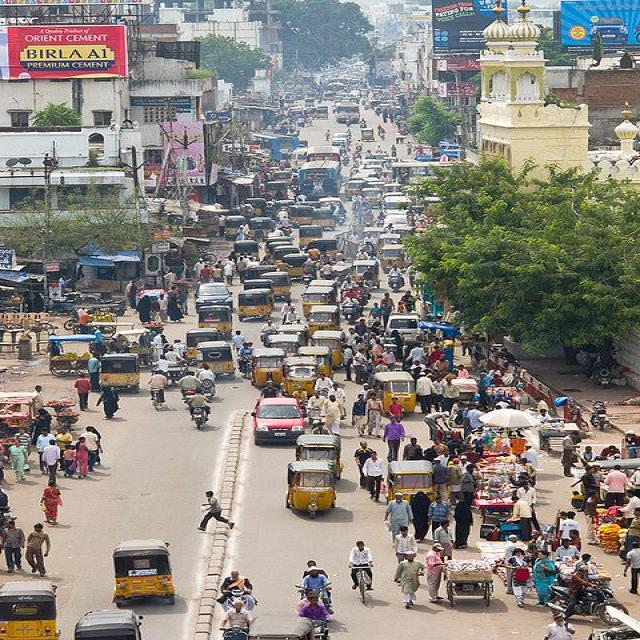Vehicles: (99, 546, 196, 604), (0, 575, 63, 640), (242, 388, 303, 449), (287, 458, 344, 520), (547, 582, 629, 625), (382, 456, 441, 510), (247, 344, 293, 400), (367, 369, 419, 417), (186, 322, 238, 370), (303, 332, 351, 382), (98, 346, 144, 396), (278, 358, 324, 407), (291, 429, 347, 467), (235, 284, 279, 322), (382, 315, 431, 343), (234, 290, 275, 322), (253, 265, 296, 295), (306, 307, 348, 336), (204, 348, 250, 372), (268, 251, 303, 282), (198, 281, 234, 311), (199, 305, 230, 338), (354, 258, 384, 289), (235, 236, 266, 265), (376, 244, 409, 270), (308, 209, 338, 231), (326, 130, 359, 149), (221, 214, 247, 238), (333, 106, 364, 125), (344, 178, 368, 199), (253, 218, 276, 237), (290, 205, 308, 229), (362, 186, 382, 207), (298, 283, 315, 306), (246, 194, 268, 210), (194, 405, 209, 427), (358, 125, 378, 140), (198, 380, 218, 395), (343, 305, 356, 327), (389, 273, 405, 289), (180, 389, 194, 405)
